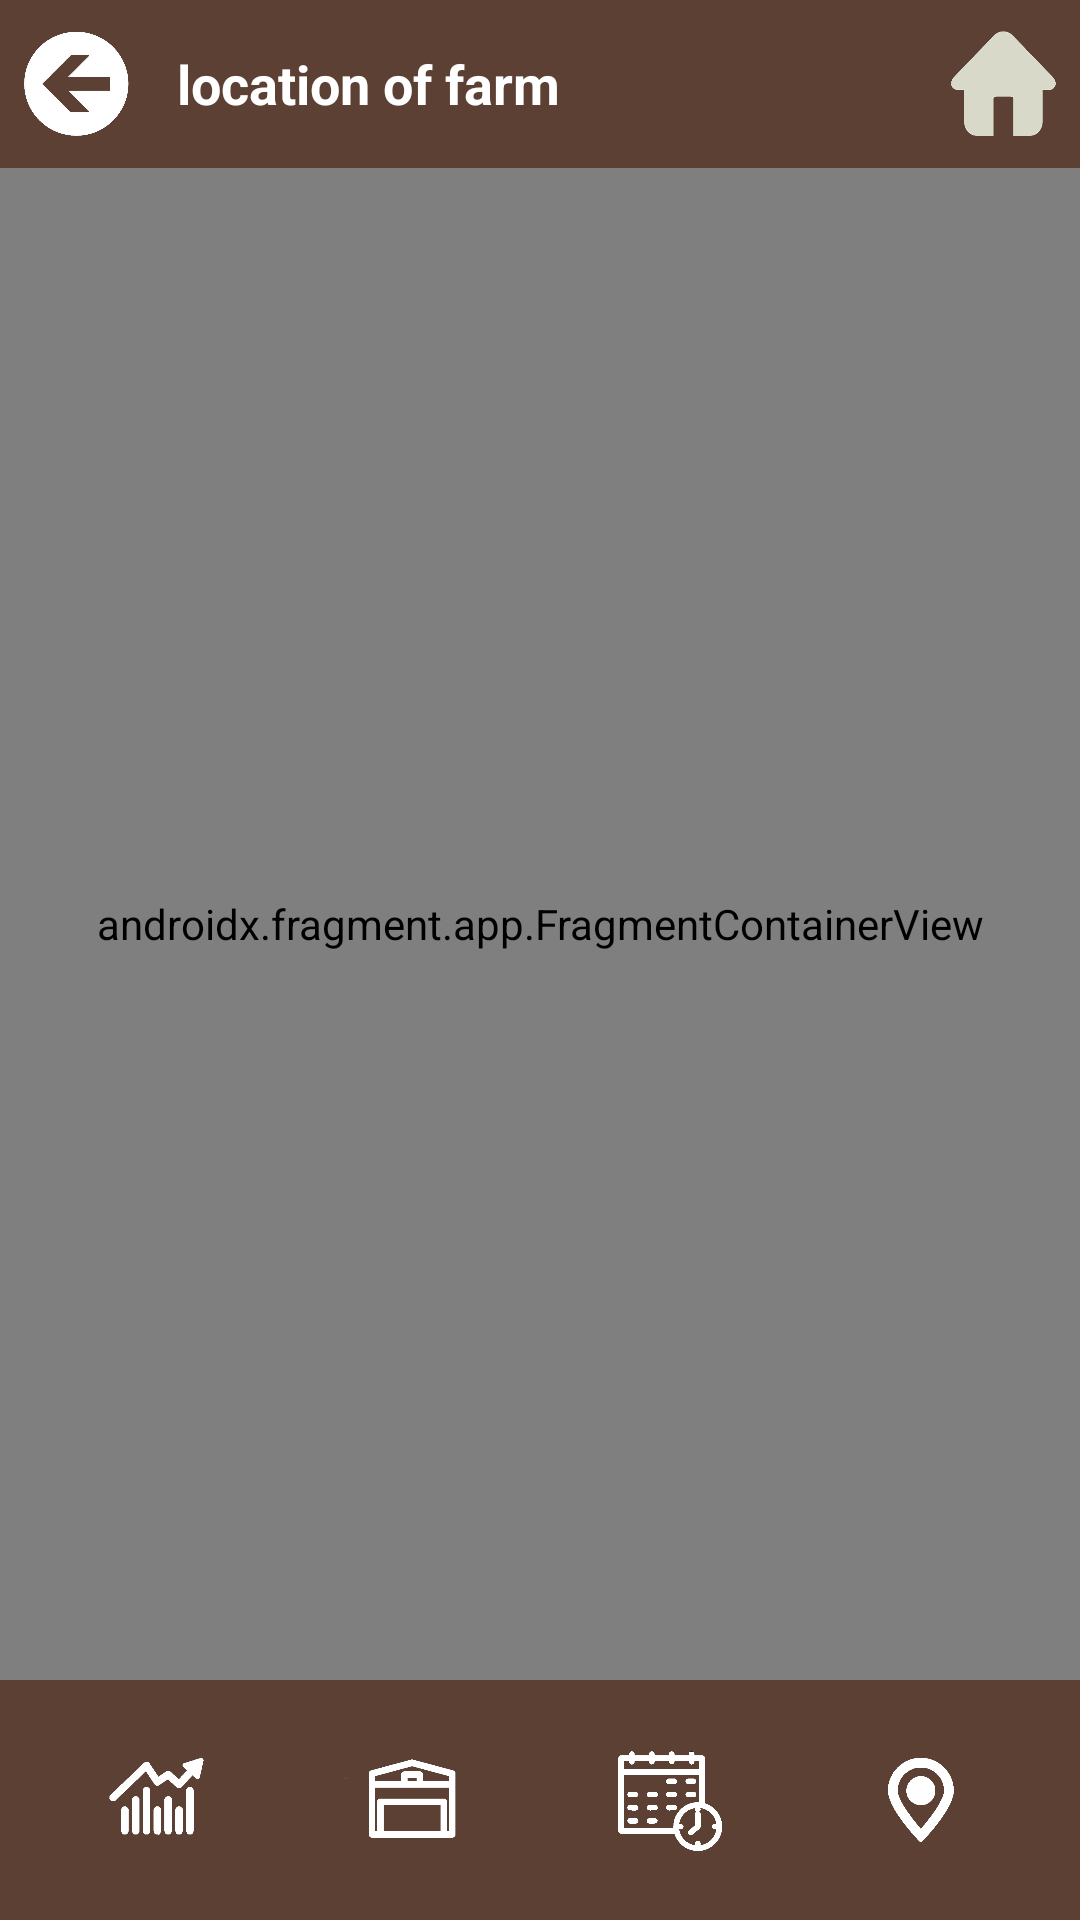

Icon bounding boxes for this 1080px×1920px phone screenshot, format bbox(x1, y1, x2, y2):
Back: bbox(24, 32, 129, 136)
Inventory: bbox(369, 1759, 456, 1838)
Map: bbox(888, 1758, 954, 1842)
Task: bbox(618, 1751, 722, 1851)
